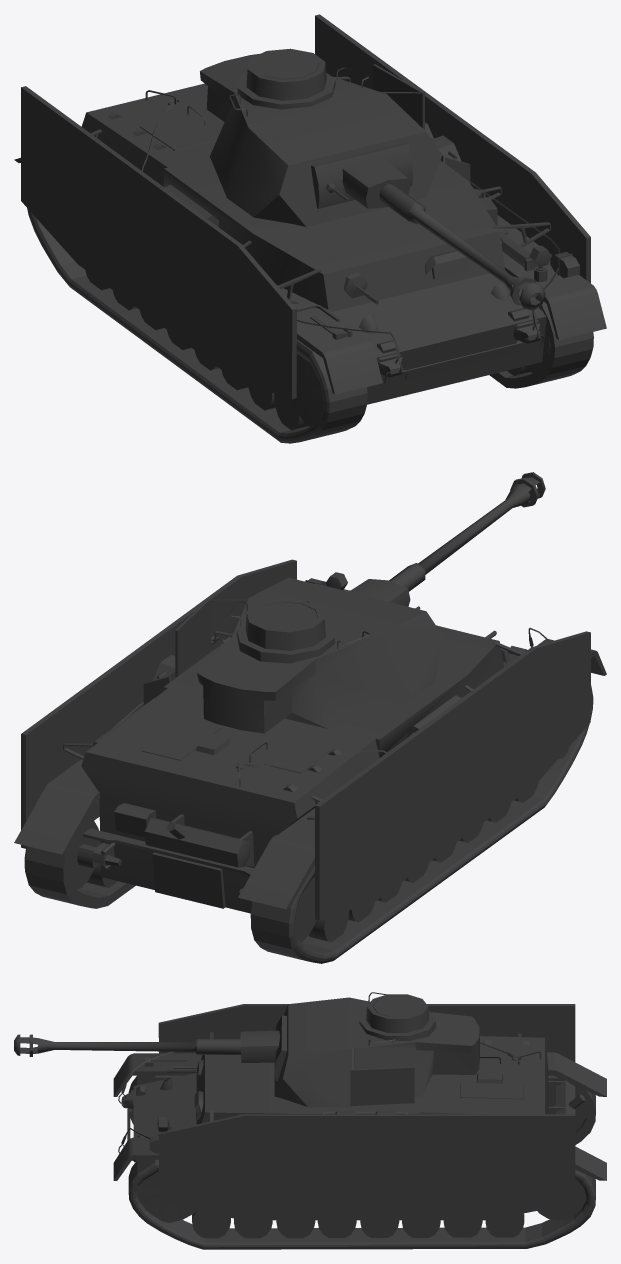
File: panzer4.glb
3 renders of one model, top to bottom at view 1: azimuth 30°, elevation 25°; view 2: azimuth 150°, elevation 25°; view 3: azimuth 270°, elevation 25°, orthographic. The views are drawn at different scales.
Parts seen in each view (by area): view 1: httpssteamusercontentaakamaihdnetugc2314349938636941354ECE67; view 2: httpssteamusercontentaakamaihdnetugc2314349938636941354ECE67; view 3: httpssteamusercontentaakamaihdnetugc2314349938636941354ECE67.
Part boxes in pixels (left/top/right/bottom): httpssteamusercontentaakamaihdnetugc2314349938636941354ECE67: left=14, top=14, right=606, bottom=443; httpssteamusercontentaakamaihdnetugc2314349938636941354ECE67: left=14, top=472, right=606, bottom=963; httpssteamusercontentaakamaihdnetugc2314349938636941354ECE67: left=14, top=992, right=606, bottom=1249.
Size of the model in its own units: 0.6481 by 0.524 by 1.45.
1 material, 1 textured.
